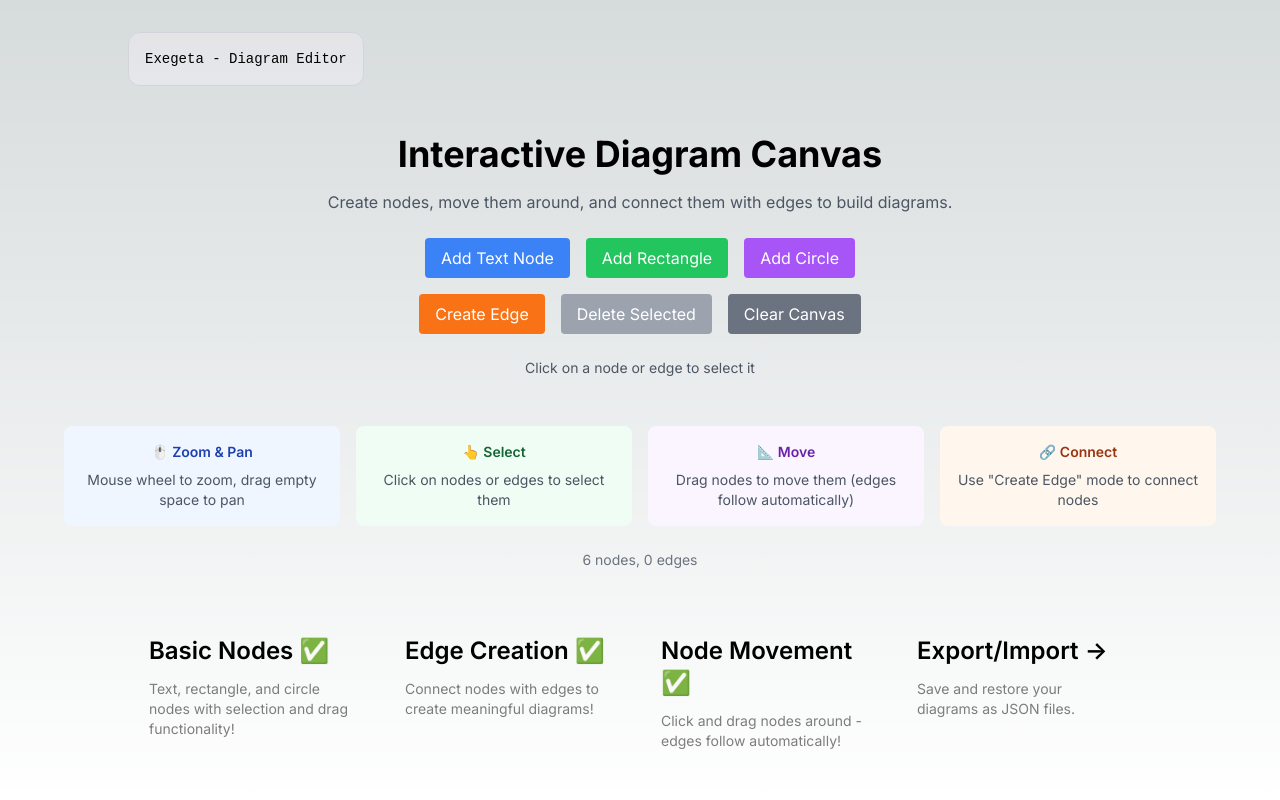
Test: Edge Creation Integration › cancels edge creation when clicking cancel button
The width and height of the screenshot is (1280, 800).
# Add a node
Click the button "Add Text Node": (497, 258) left=425, top=238, right=570, bottom=278
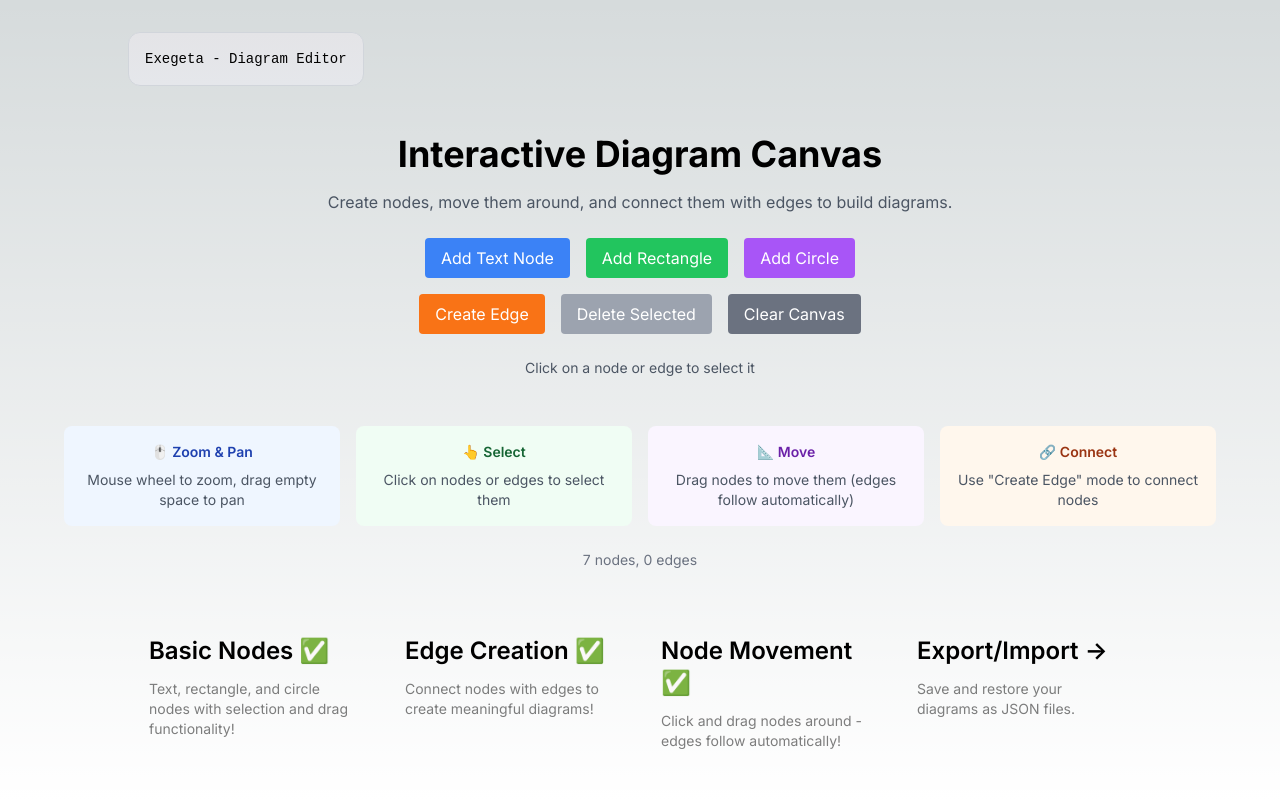
# Enter edge creation mode
Click the button "Create Edge": (482, 314) left=419, top=294, right=545, bottom=334
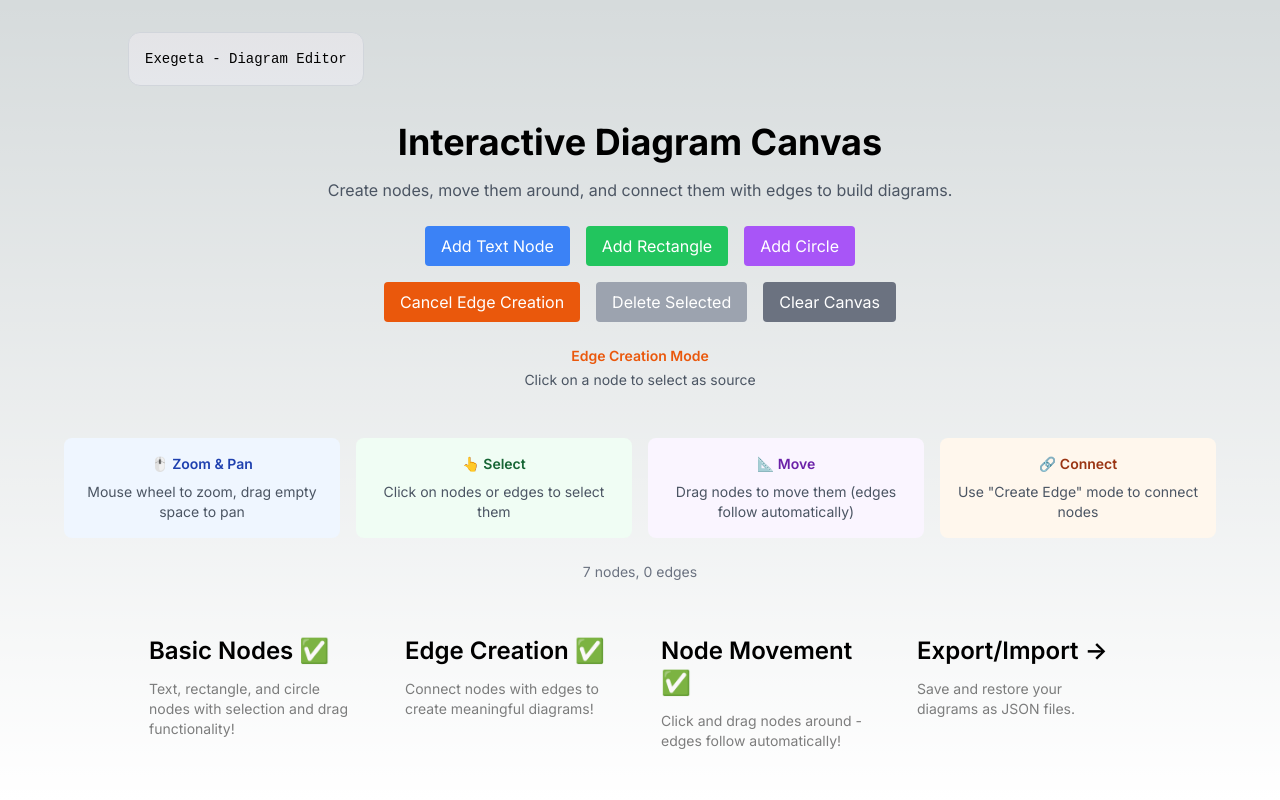
Expected: the text "Edge Creation Mode" is shown, left=571, top=347, right=709, bottom=364
Expected: the button "Create Edge" reads "Cancel Edge Creation"
# Cancel edge creation
Click the button "Create Edge": (482, 302) left=384, top=282, right=580, bottom=322
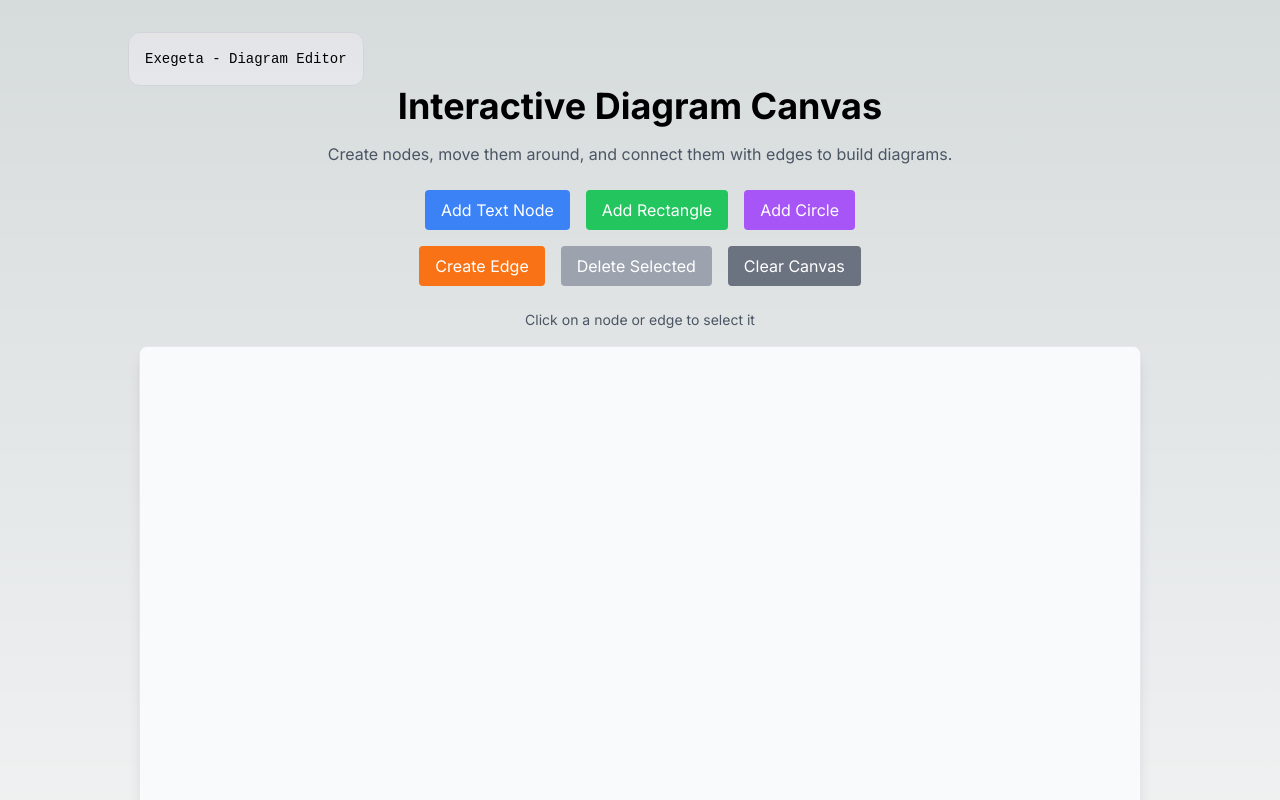
Expected: the text "Click on a node or edge to select it" is shown, left=525, top=311, right=755, bottom=328
Expected: the button "Create Edge" is shown, left=419, top=246, right=545, bottom=286
